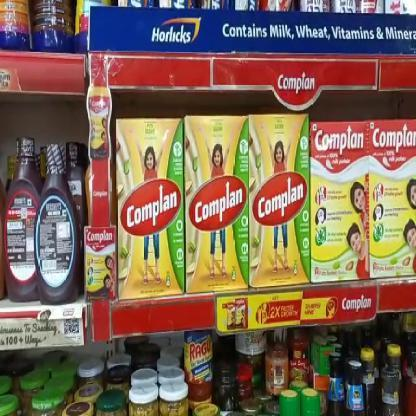Complan Pista Badam: (116, 117, 184, 300), (185, 113, 249, 291), (249, 113, 308, 286), (312, 121, 370, 282), (370, 122, 416, 279)
